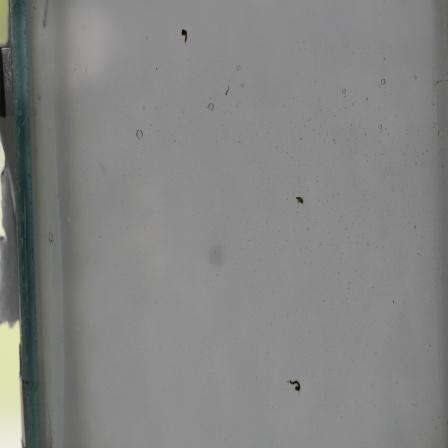Jentik-Nyamuk: (177, 24, 192, 45), (287, 378, 304, 396), (294, 193, 308, 206)
